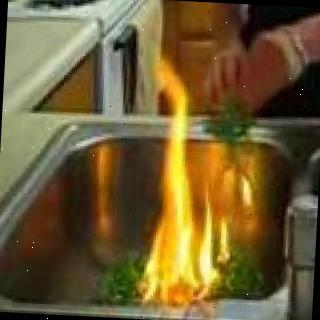fire: (138, 90, 232, 306)
